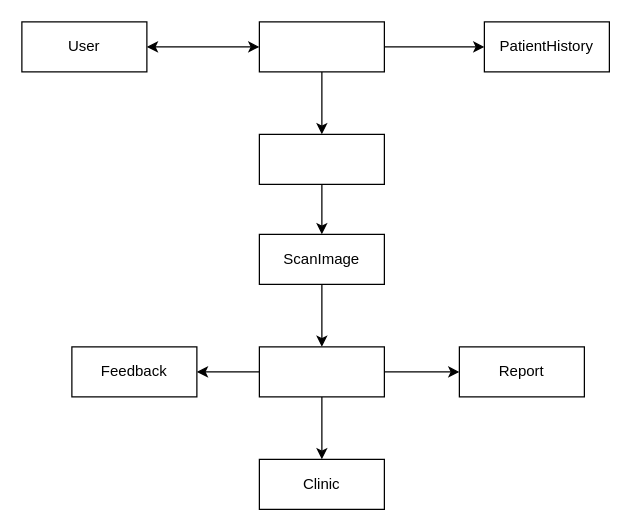
Some shapes in this 631 by 531 pixel diagram are drawn without their labels. Each missing label, with the centre of its shape:
"PatientProfile" goes at [321,46].
"Prediction" goes at [321,371].
"Scan" goes at [321,158].
